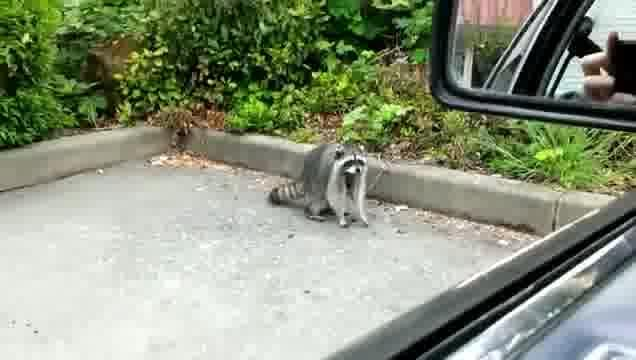raccoon: (266, 142, 373, 230)
